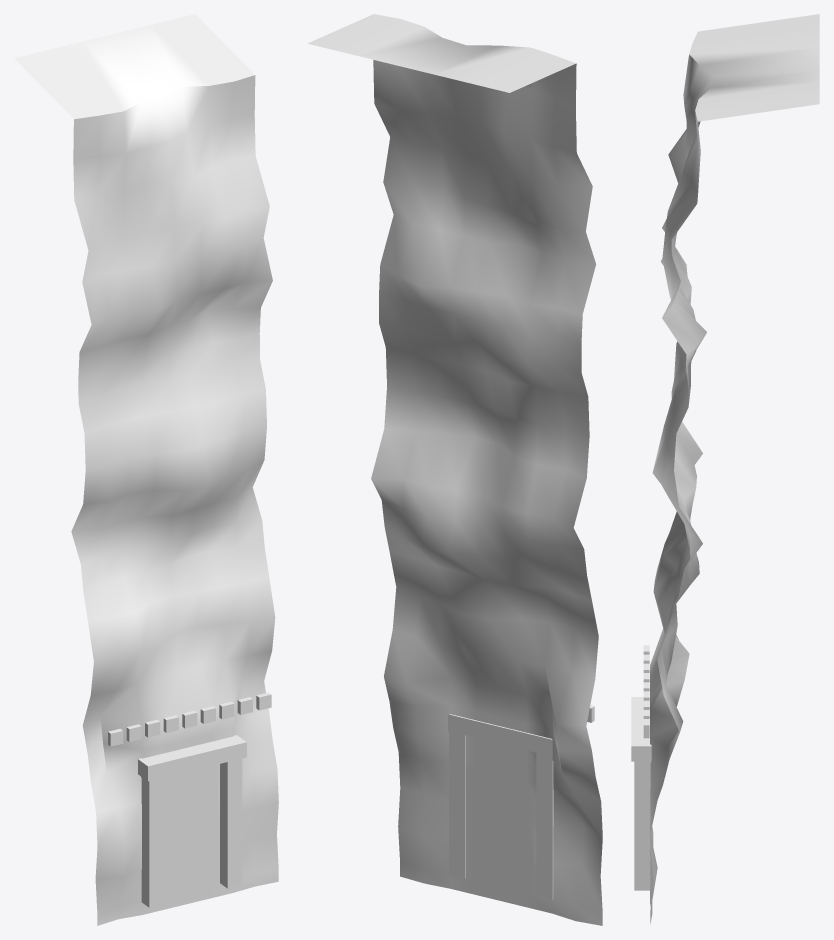
The model's file is cliff_carved.glb.
3 renders of one model, left to right at view 1: azimuth 30°, elevation 25°; view 2: azimuth 150°, elevation 25°; view 3: azimuth 270°, elevation 25°, orthographic. The views are drawn at different scales.
Parts seen in each view (by area): view 1: CliffCarved; view 2: CliffCarved; view 3: CliffCarved.
Part boxes in pixels (<box>): CliffCarved: <box>14,14,278,925</box>; CliffCarved: <box>307,14,602,925</box>; CliffCarved: <box>631,14,819,924</box>.
Bounding box in the file's own units: 4.4 × 18.7 × 3.89.
Materials: 1 (1 with a texture image).
